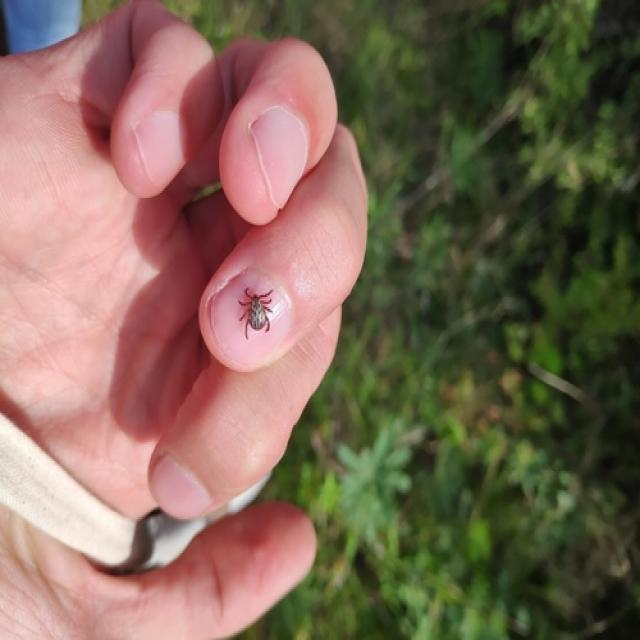Dermacentor Reticulatus-M: (236, 270, 287, 340)
